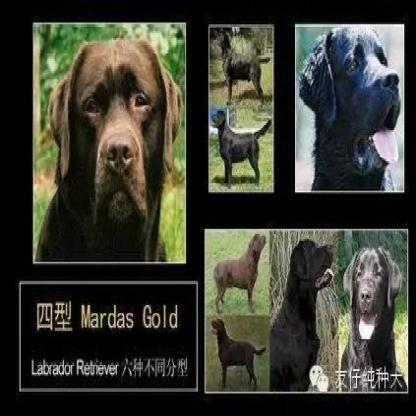dog: (45, 39, 180, 254), (295, 23, 405, 193), (338, 230, 407, 391), (271, 229, 337, 393), (210, 104, 275, 192), (203, 230, 271, 313), (203, 316, 270, 391), (210, 26, 275, 99)
